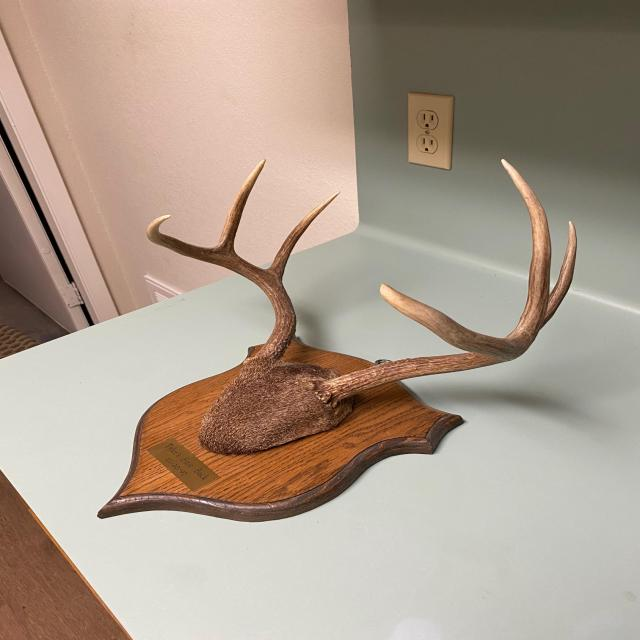L-F: (311, 283, 526, 409)
L-G2: (500, 158, 551, 350)
R-F: (146, 215, 297, 366)
R-G1: (266, 191, 341, 281)
R-G2: (214, 157, 266, 253)
